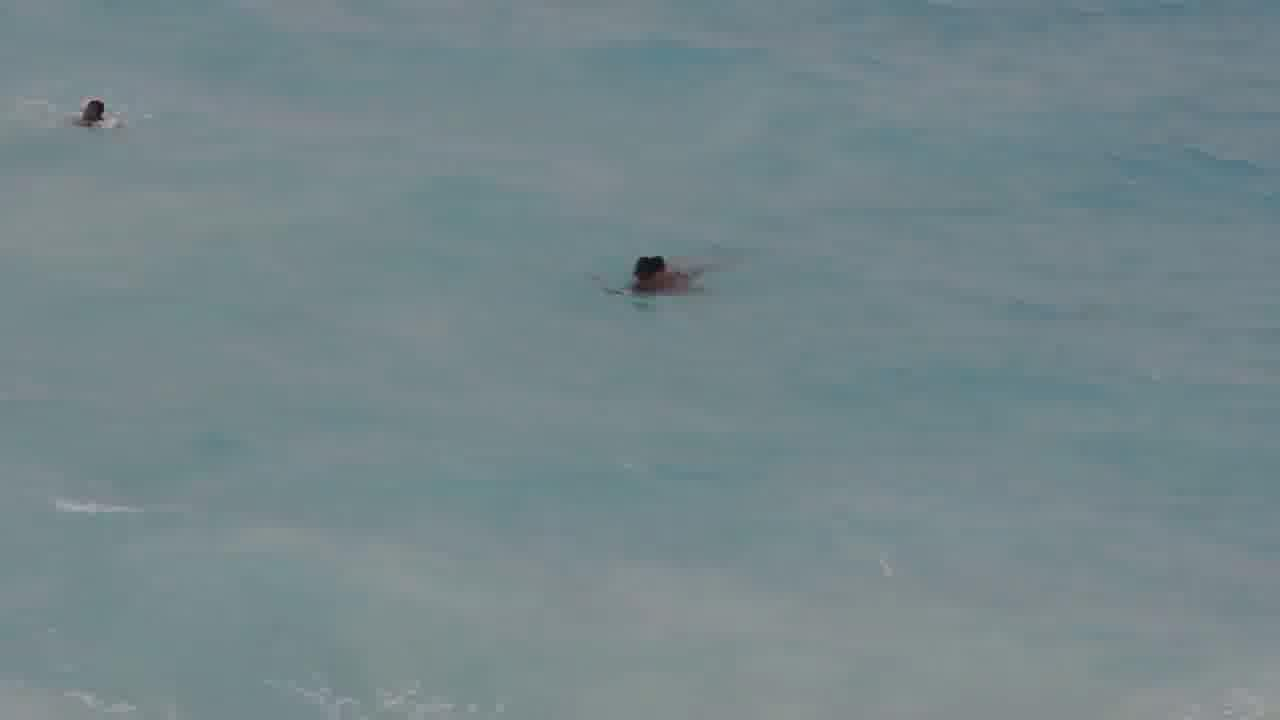human: (609, 249, 699, 307), (65, 83, 121, 143)
